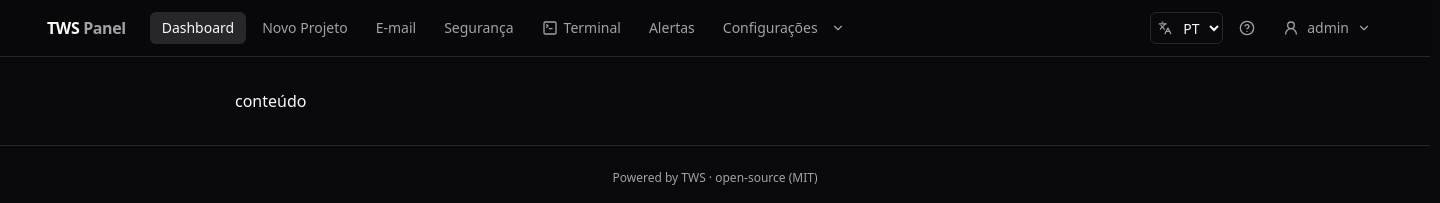
it: menu do usuário e o submenu não ficam abertos juntos › Esc fecha o menu do usuário e devolve o foco ao botão
Click the button with aria-label "Conta:" at (1327, 28), box left=1271, top=12, right=1383, bottom=44
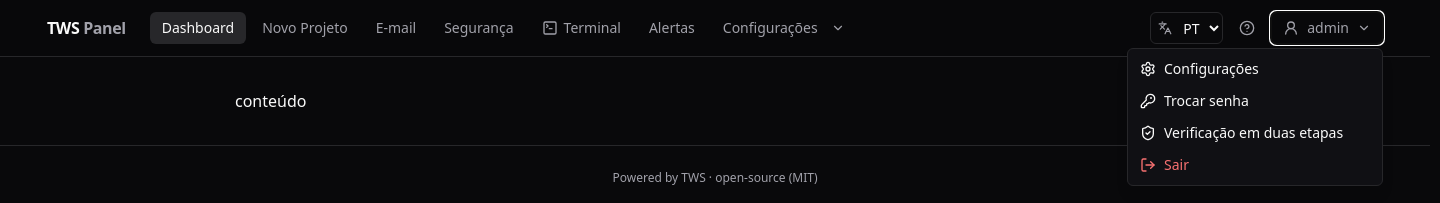
Press Tab
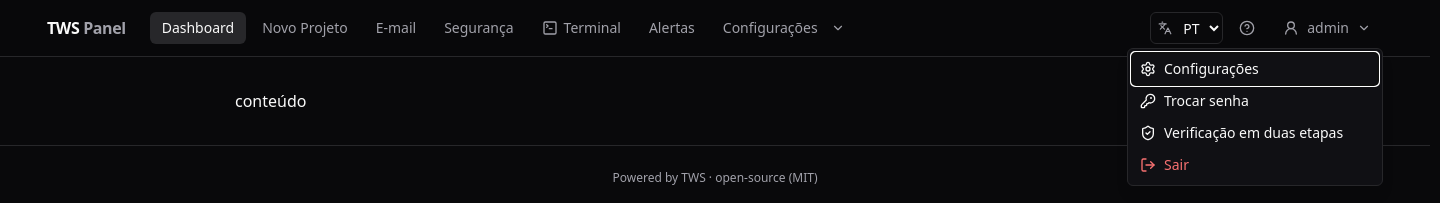
Press Escape
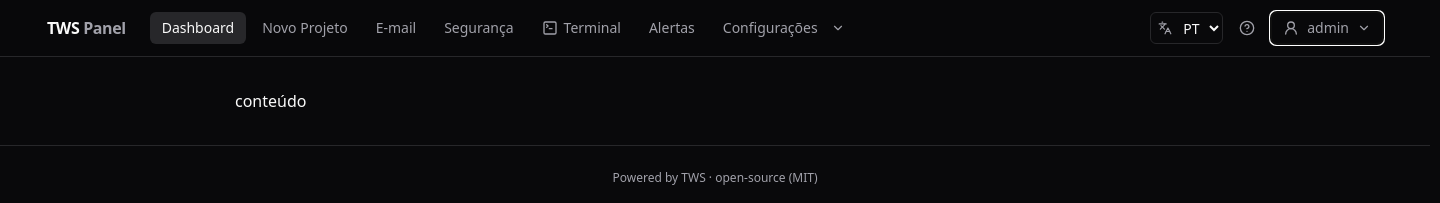
Expected: the button "Sair" is gone
